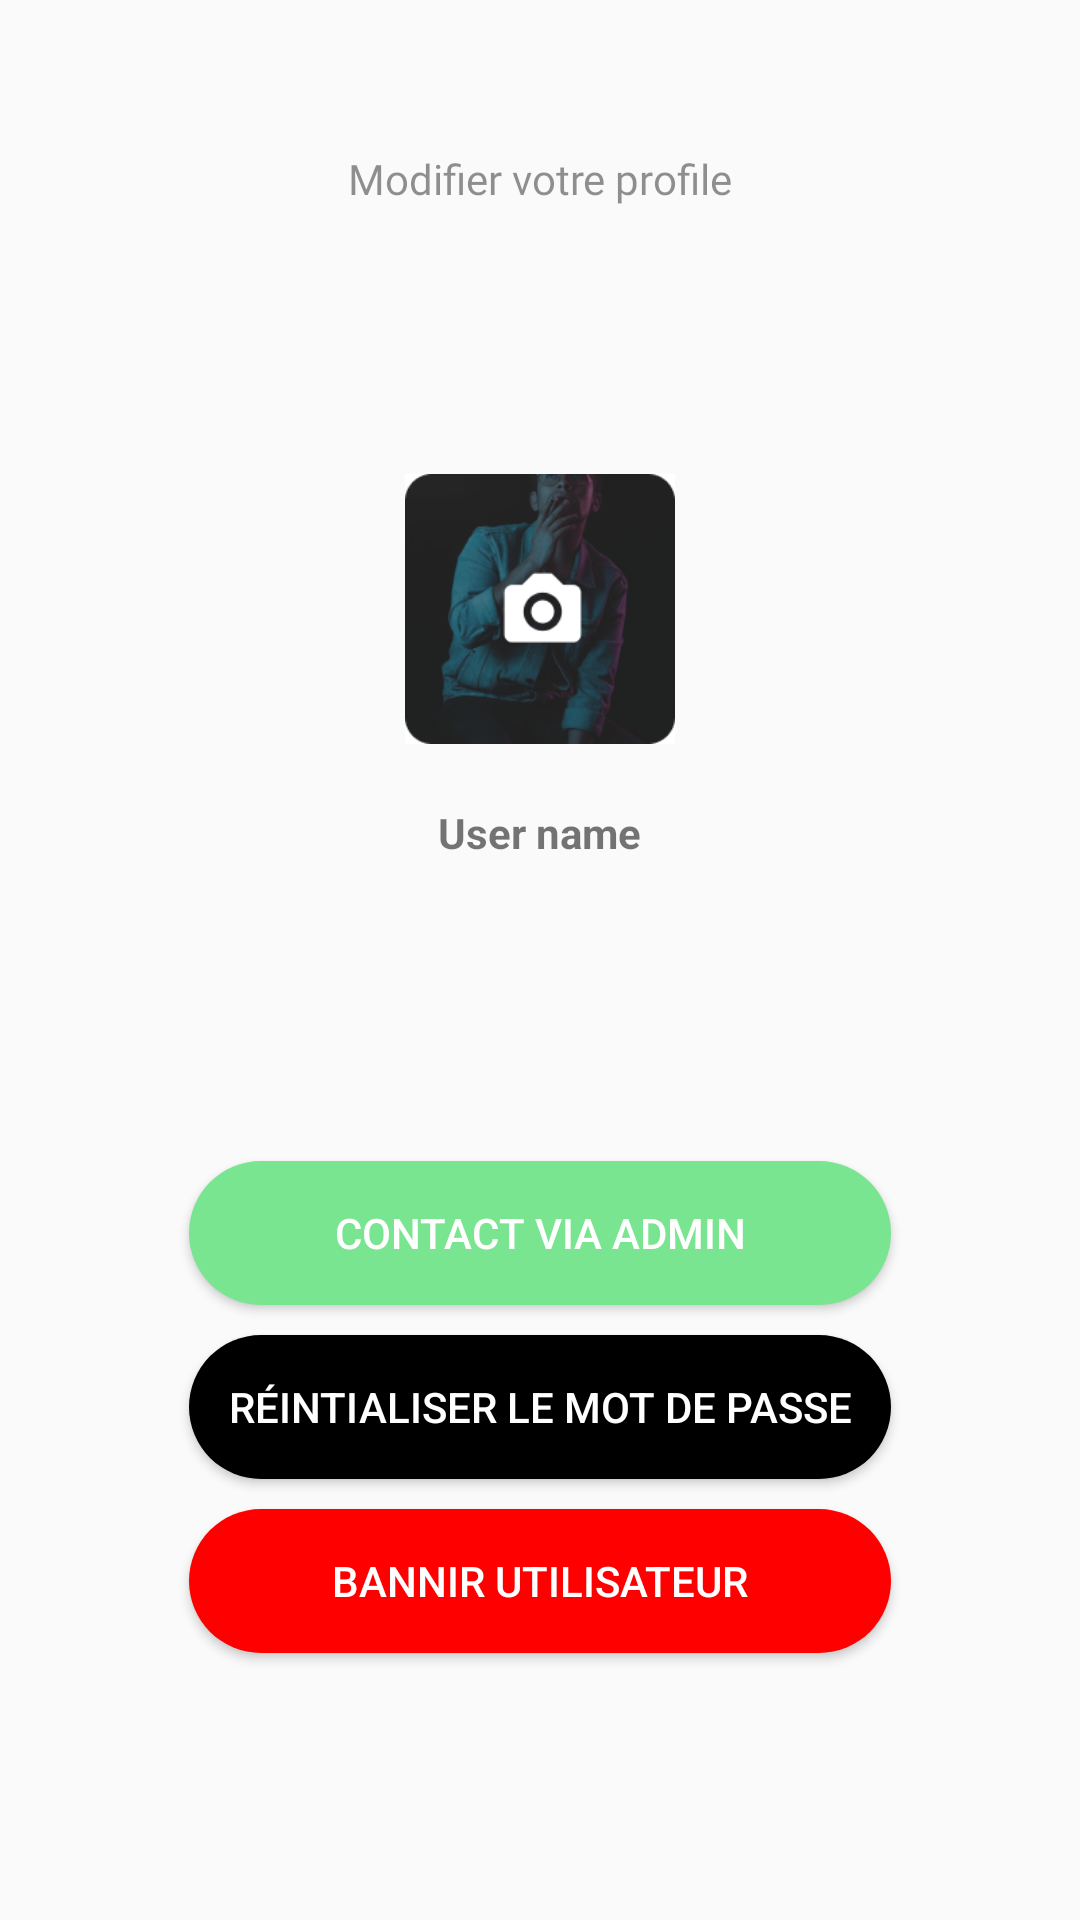

Icon click points for this 1080×1920 phone screenshot, format [x,y]:
photo: [540,609]
